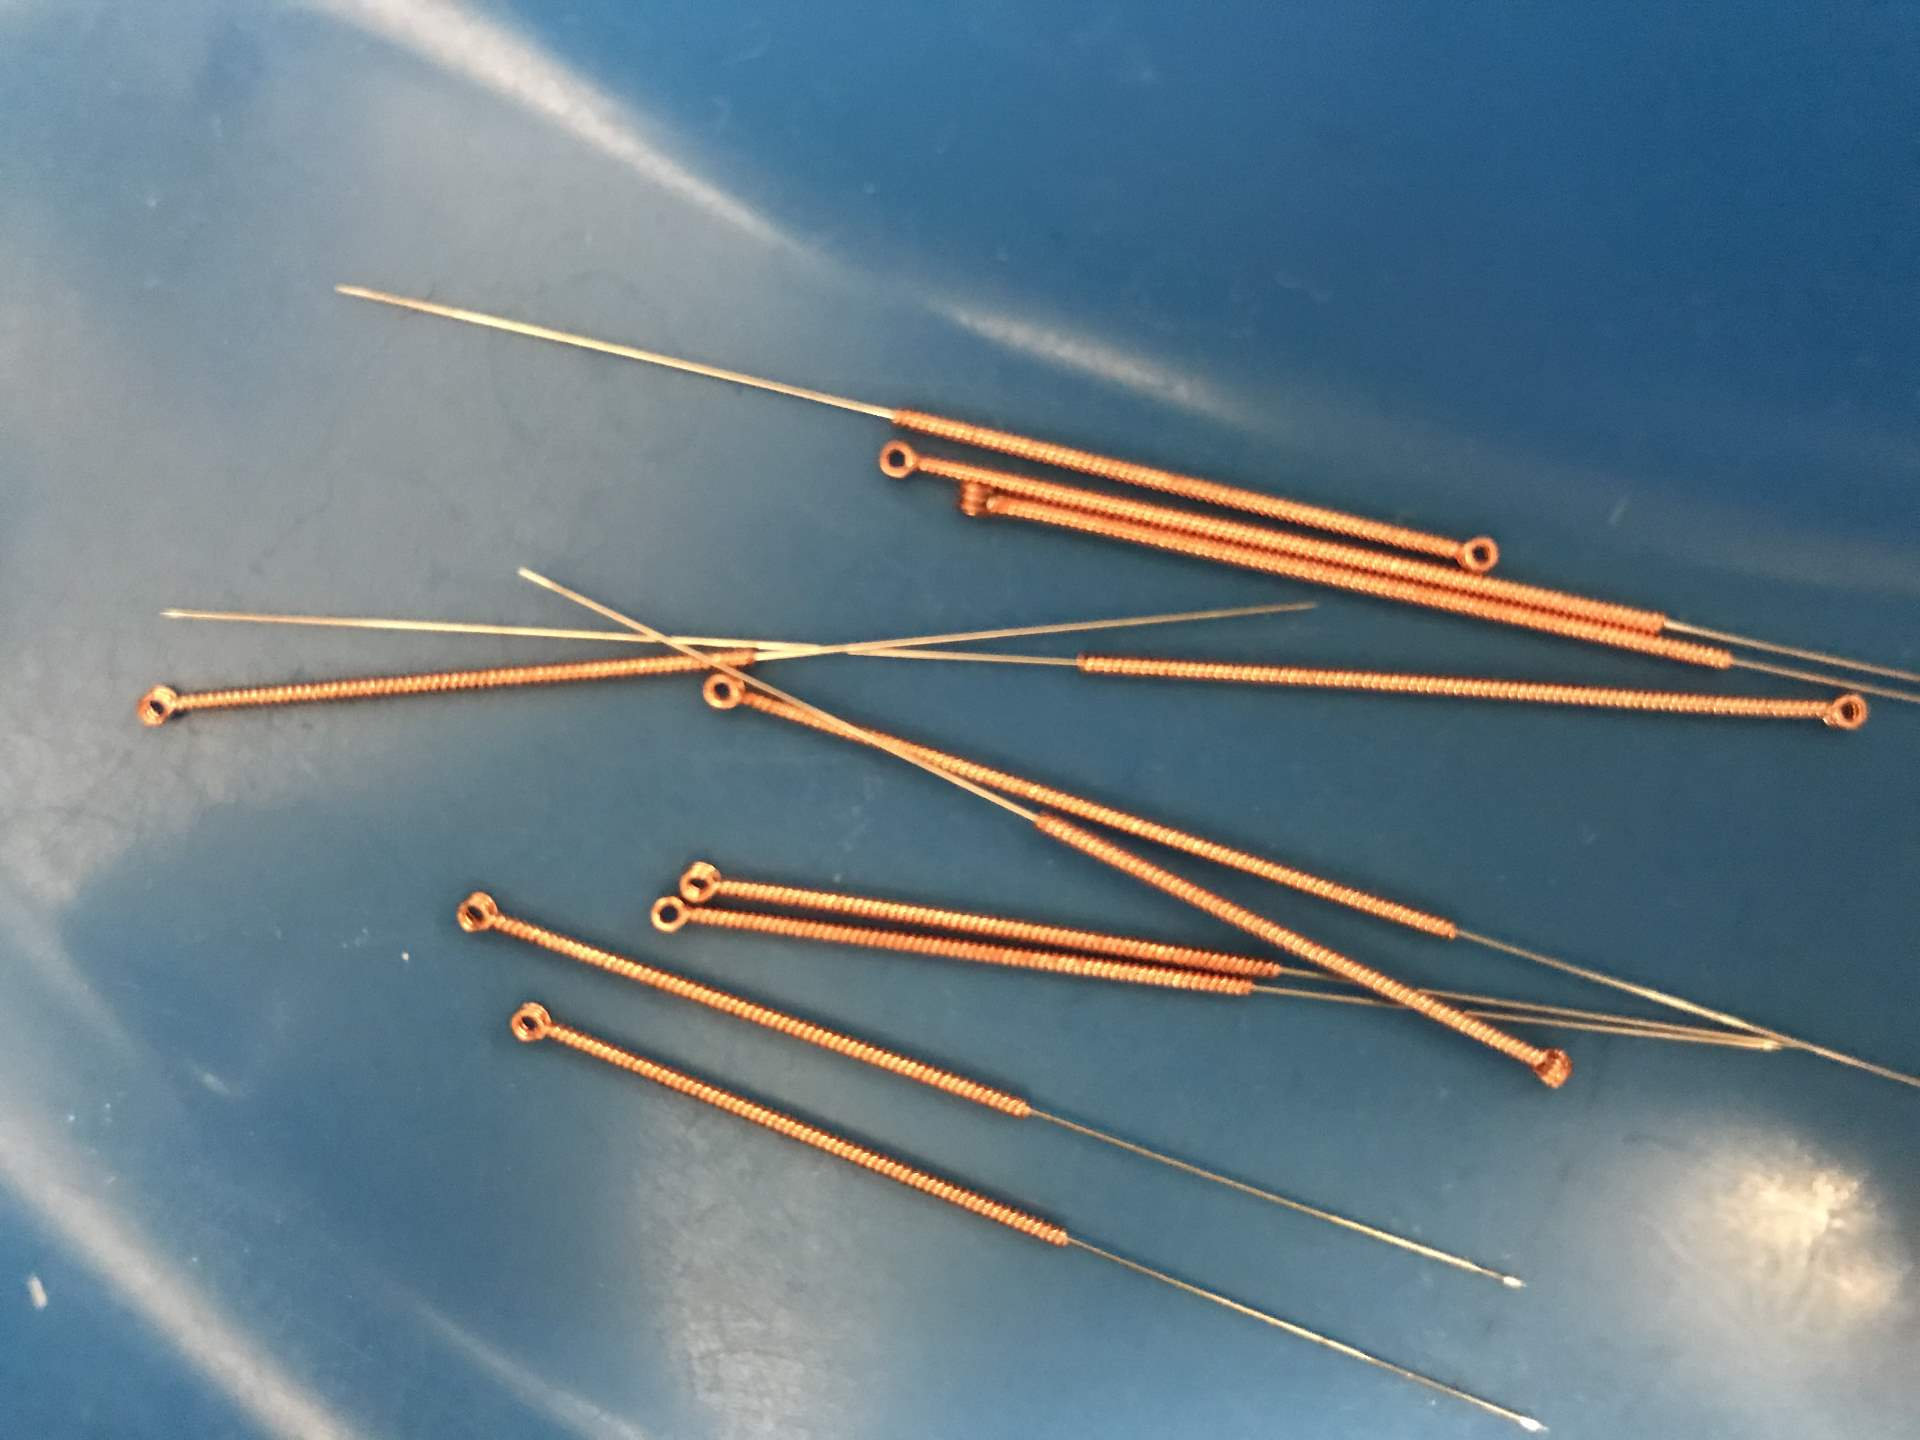needle: (124, 669, 203, 746), (1805, 675, 1879, 750), (441, 874, 513, 951), (497, 989, 568, 1060), (1516, 1035, 1584, 1101), (866, 430, 933, 492), (695, 666, 757, 728), (1444, 523, 1507, 579), (676, 849, 735, 906), (641, 889, 697, 941), (954, 475, 1002, 532)
